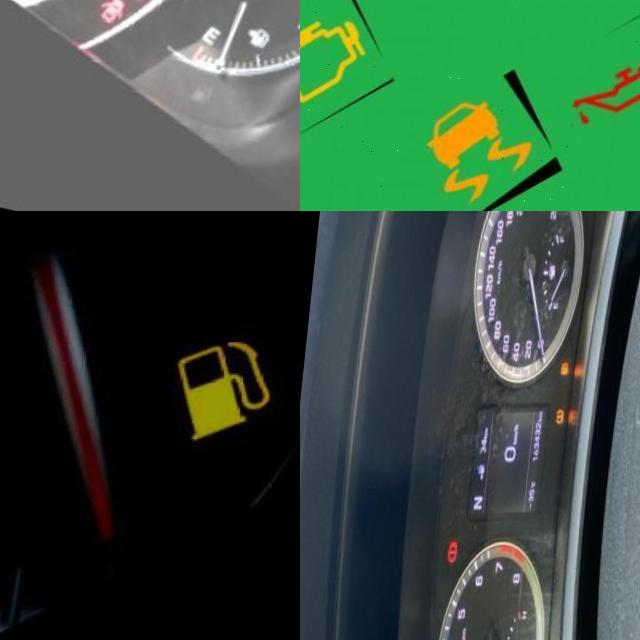Low fuel level: (244, 33, 274, 63)
